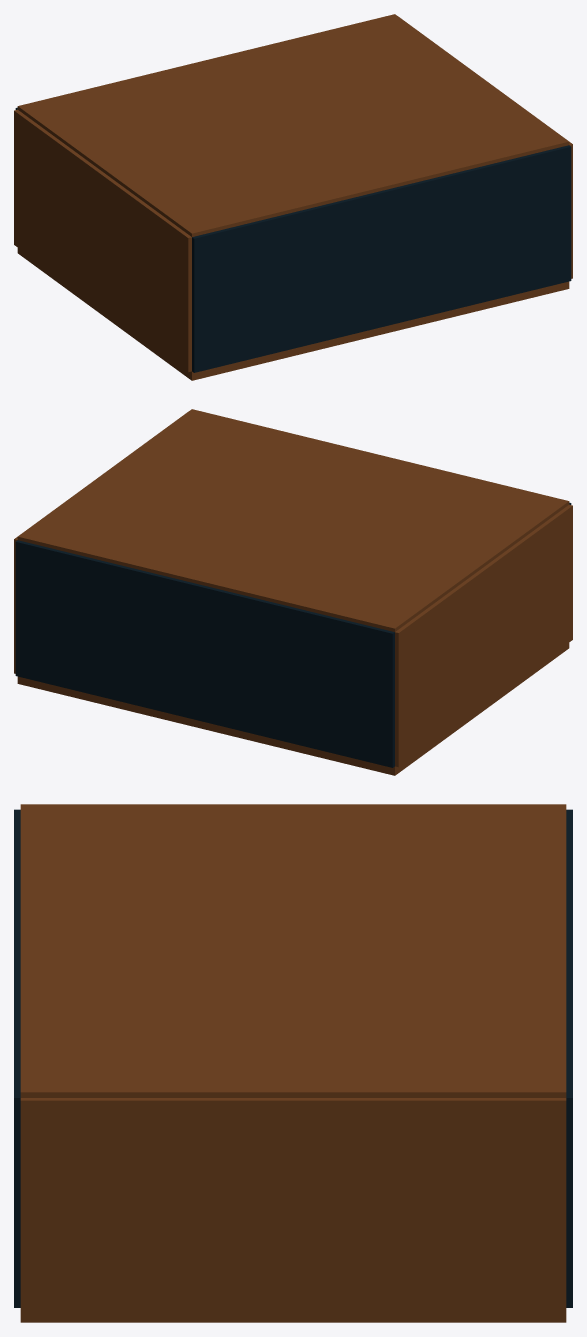
Rendered from ShipCabin.obj.
3 views of the same model, one above another, from view 1: azimuth 30°, elevation 25°; view 2: azimuth 150°, elevation 25°; view 3: azimuth 270°, elevation 25° (orthographic). The views are drawn at different scales.
Visible parts, largest first — view 1: Cabin_roof, Aft_wall, Starboard_wall, Cabin_floor; view 2: Cabin_roof, Forward_wall, Starboard_wall, Cabin_floor; view 3: Cabin_roof, Port_wall, Cabin_floor, Aft_wall, Forward_wall.
Part boxes in pixels (x1=…): Cabin_roof: x1=17, y1=14, x2=569, y2=236; Aft_wall: x1=192, y1=145, x2=571, y2=372; Starboard_wall: x1=14, y1=109, x2=191, y2=372; Cabin_floor: x1=17, y1=248, x2=569, y2=380; Cabin_roof: x1=17, y1=409, x2=569, y2=631; Forward_wall: x1=15, y1=540, x2=394, y2=767; Starboard_wall: x1=395, y1=504, x2=572, y2=767; Cabin_floor: x1=17, y1=643, x2=569, y2=775; Cabin_roof: x1=20, y1=804, x2=566, y2=1097; Port_wall: x1=20, y1=1098, x2=566, y2=1310; Cabin_floor: x1=20, y1=1310, x2=566, y2=1322; Aft_wall: x1=14, y1=809, x2=20, y2=1307; Forward_wall: x1=566, y1=809, x2=572, y2=1307.
Bounding box in the file's own units: 10.2 × 3.73 × 8.2.
